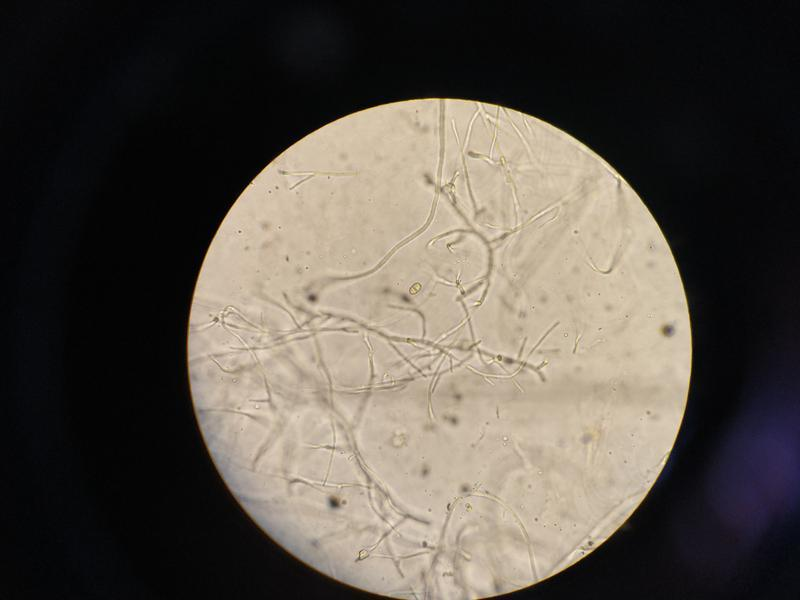fungus: (290, 177, 597, 481)
